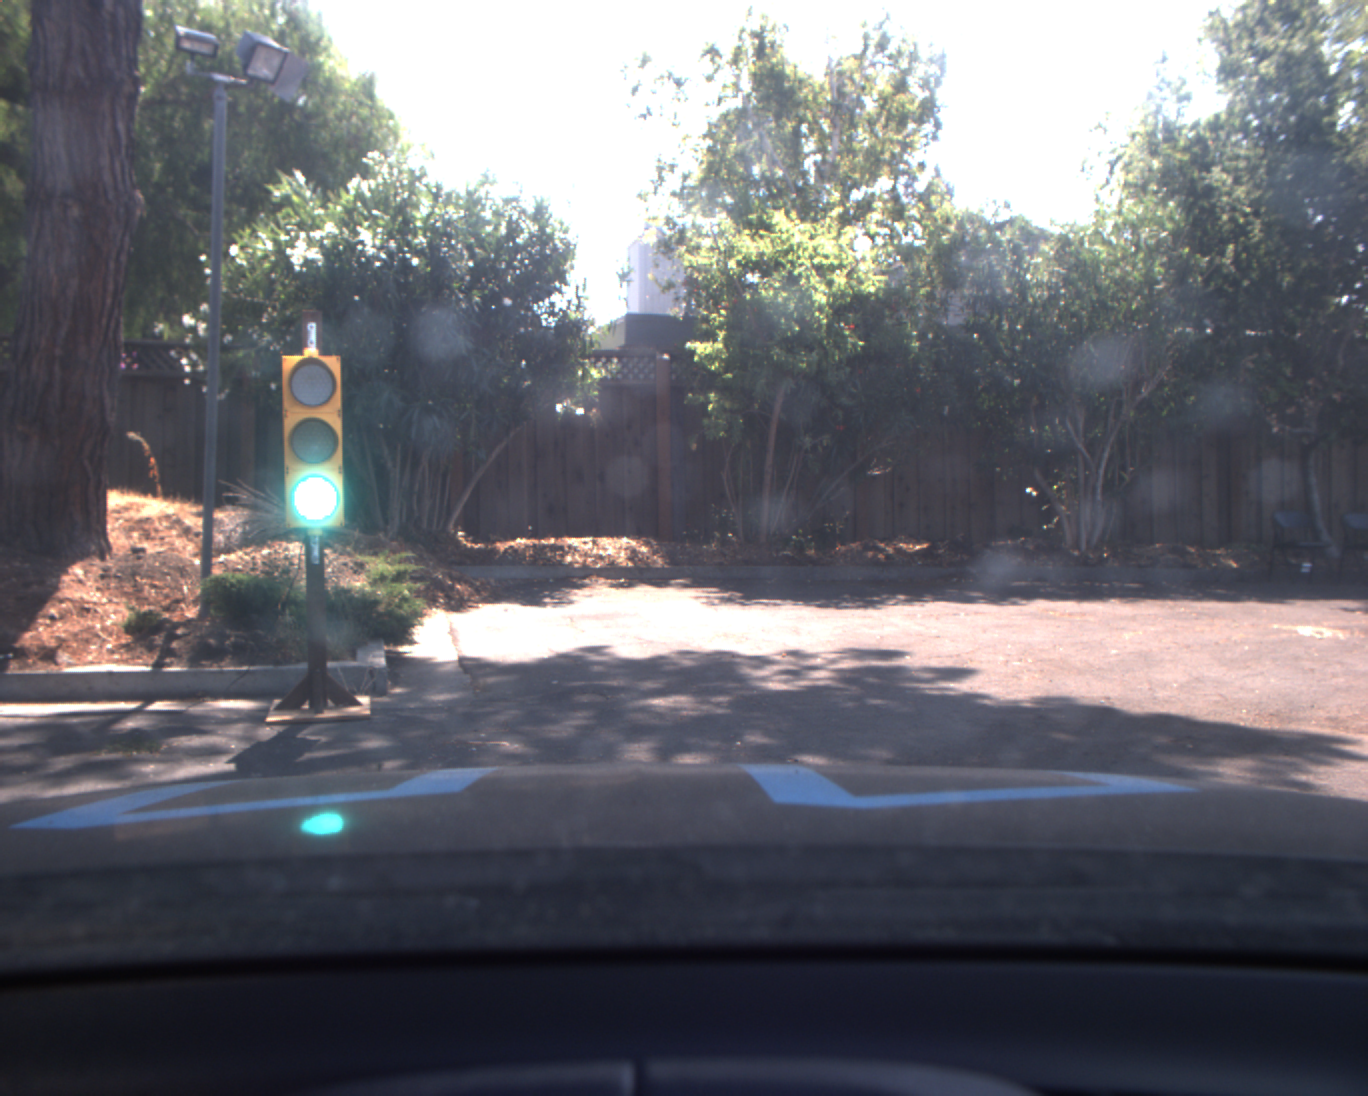green: (279, 353, 348, 528)
